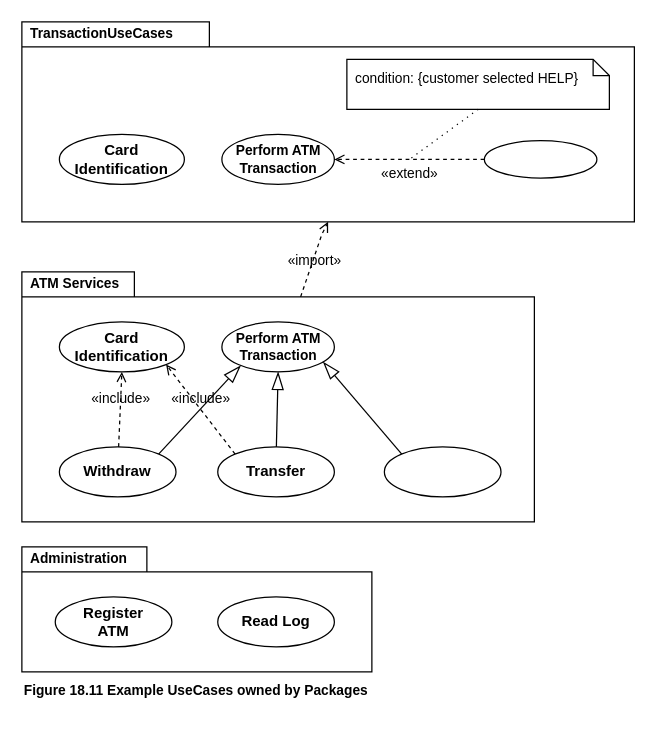
This 656x731 diagram has some shape labels left out. The centre of each missing label's shape, as x and y in pixels:
"Deposit" belongs at pixel 442 471.
"extension point: selection" belongs at pixel 477 83.
"On-line Help" belongs at pixel 540 158.
